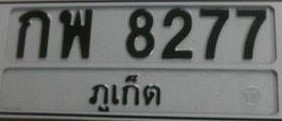txt01: (15, 8, 53, 60)
txt25: (58, 7, 94, 60)
